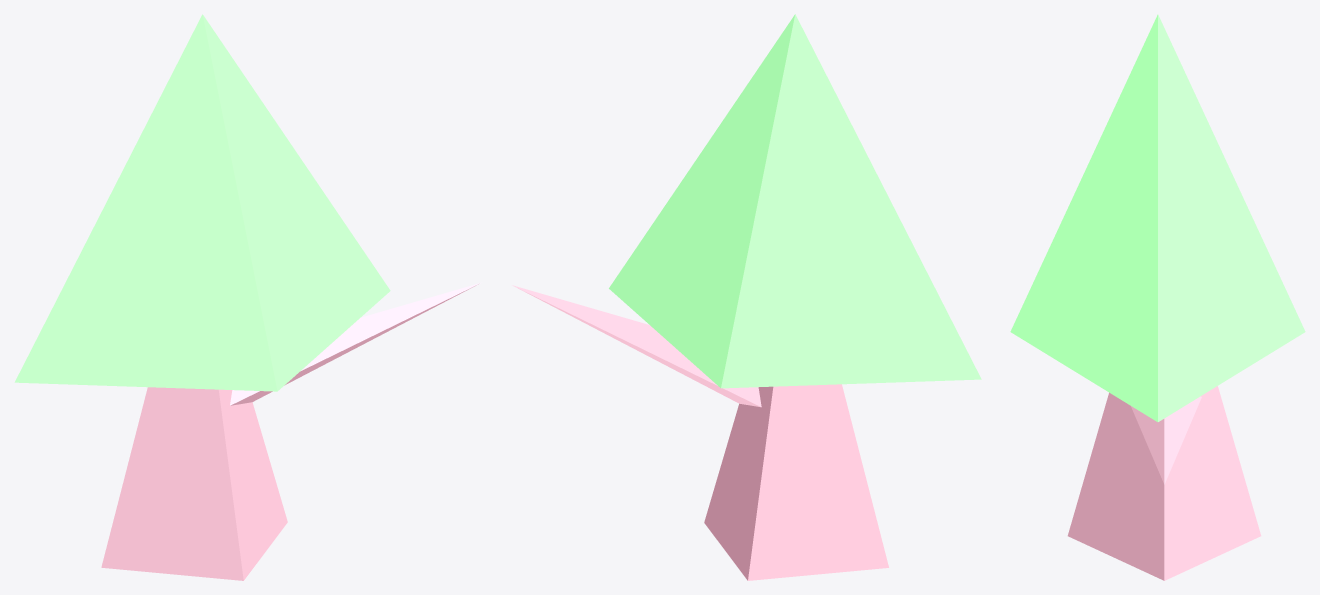
The model's file is Tree1.fbx.
3 views of the same model, side by side, from view 1: azimuth 30°, elevation 25°; view 2: azimuth 150°, elevation 25°; view 3: azimuth 270°, elevation 25° (orthographic).
Parts seen in each view (by area): view 1: pPyramid3, pPyramid1, pPyramid2; view 2: pPyramid3, pPyramid1, pPyramid2; view 3: pPyramid3, pPyramid1, pPyramid2.
Part boxes in pixels (<box>): pPyramid3: <box>14,14,390,391</box>; pPyramid1: <box>101,387,287,580</box>; pPyramid2: <box>230,282,481,405</box>; pPyramid3: <box>609,14,981,388</box>; pPyramid1: <box>704,384,888,580</box>; pPyramid2: <box>512,285,761,407</box>; pPyramid3: <box>1010,14,1305,421</box>; pPyramid1: <box>1067,386,1261,580</box>; pPyramid2: <box>1131,396,1201,484</box>.
Size of the model in its own units: 9.25 by 9.98 by 5.09.
